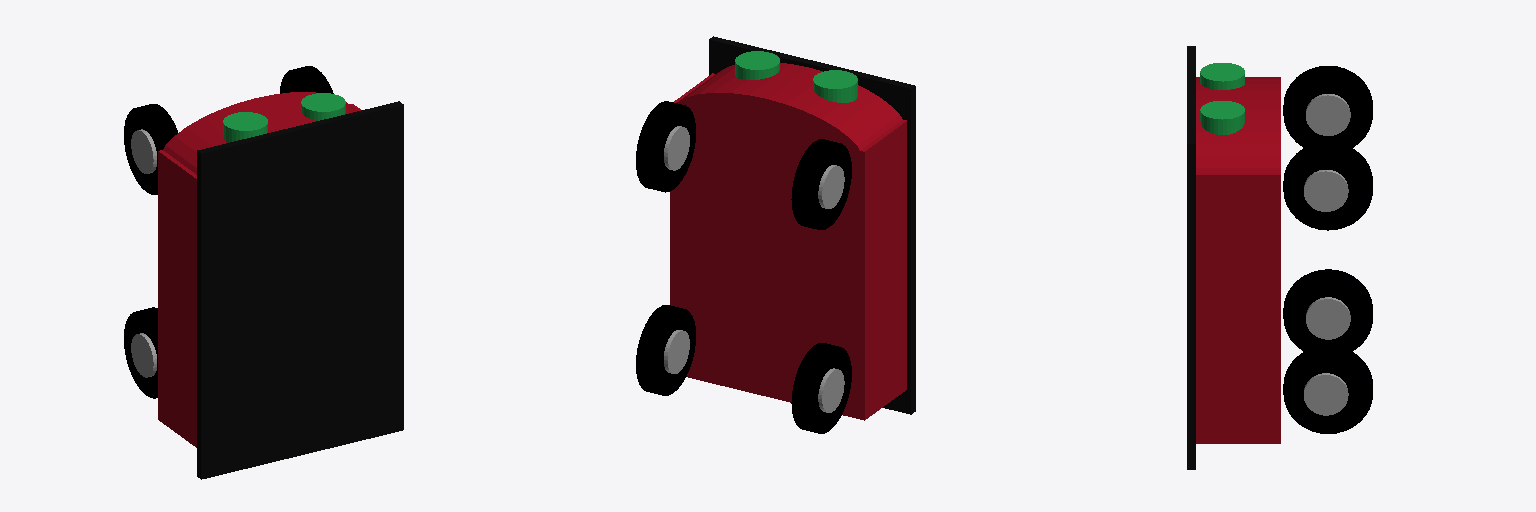
Rendered from robot.obj.
3 renders of one model, left to right at view 1: azimuth 30°, elevation 25°; view 2: azimuth 150°, elevation 25°; view 3: azimuth 270°, elevation 25°, orthographic.
Visible parts, largest first — view 1: Robot_Cylinder.011; view 2: Robot_Cylinder.011; view 3: Robot_Cylinder.011.
Boxes of the visible parts, box(x1,y1,x2,y2) form: Robot_Cylinder.011: box(124, 66, 403, 479); Robot_Cylinder.011: box(636, 36, 915, 433); Robot_Cylinder.011: box(1187, 46, 1372, 469).
Size of the model in its own units: 5.2 by 8.1 by 4.15.